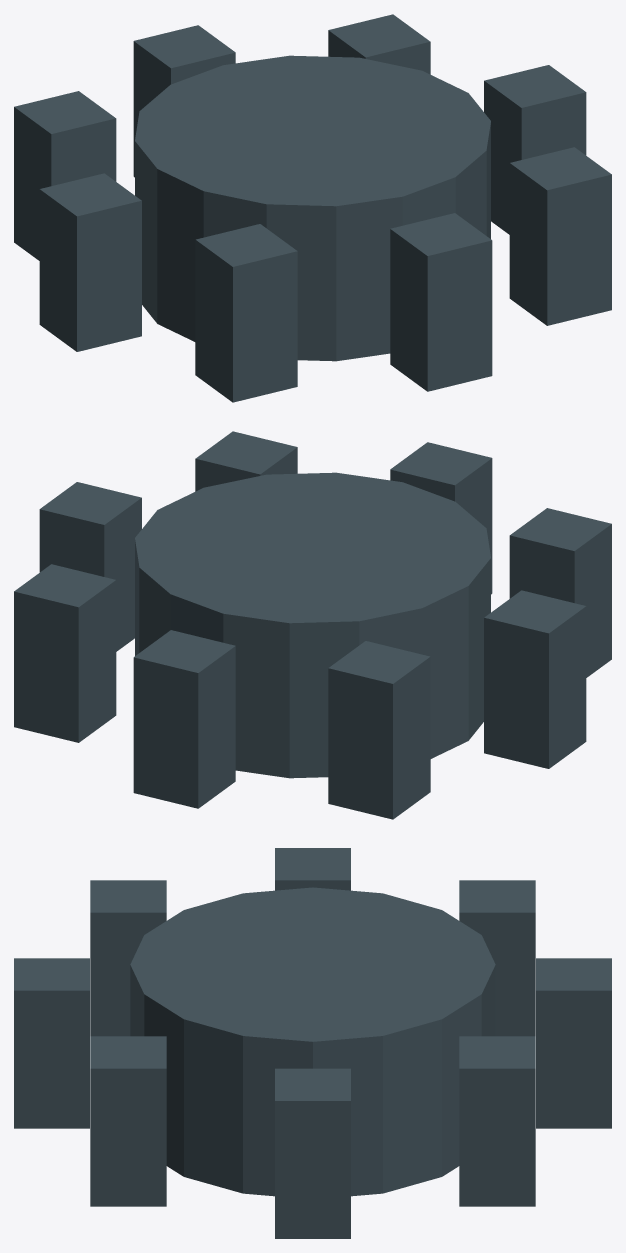
The model's file is set_bearing_tray.glb.
The picture shows the model from 3 angles, top to bottom: view 1: azimuth 30°, elevation 25°; view 2: azimuth 150°, elevation 25°; view 3: azimuth 270°, elevation 25°; orthographic projection.
Parts seen in each view (by area): view 1: set_bearing_tray; view 2: set_bearing_tray; view 3: set_bearing_tray.
Part boxes in pixels (x1,y1,x2,y2): set_bearing_tray: (14,14,611,402); set_bearing_tray: (14,431,611,819); set_bearing_tray: (14,848,611,1238).
Bounding box in the file's own units: 0.275 × 0.08 × 0.275.
